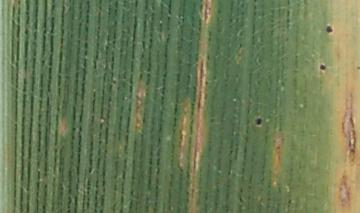tarspot: (324, 23, 335, 36), (316, 62, 329, 72), (254, 117, 264, 127), (355, 63, 360, 70)
